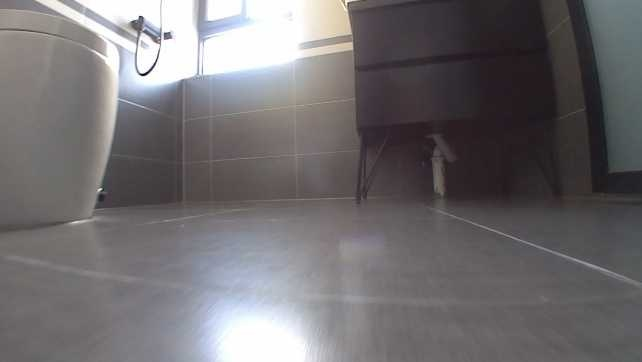toilet: (0, 6, 128, 226)
